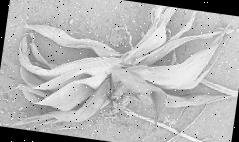organic: (12, 0, 238, 142)
